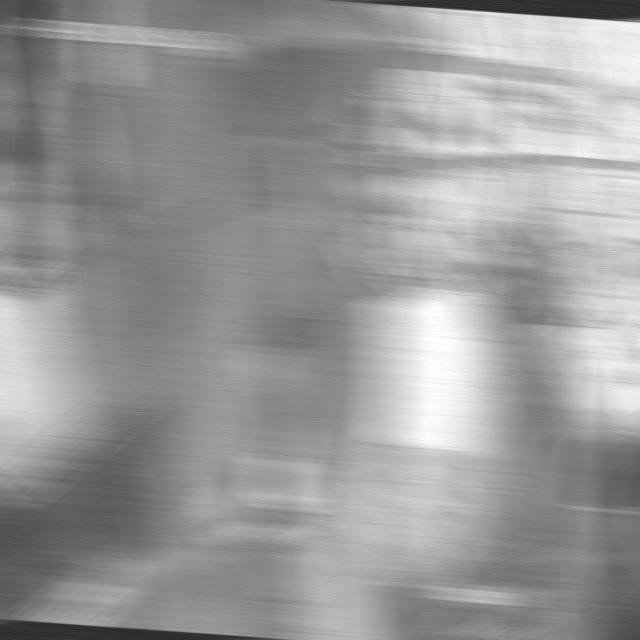cement_mixer_truck: (230, 286, 640, 640)
swing_chute: (254, 125, 358, 331)
